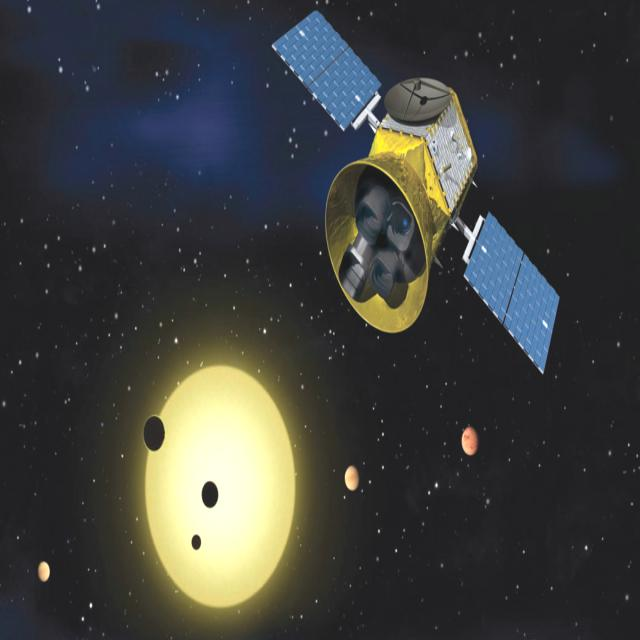large_debris: (138, 412, 166, 462), (336, 458, 365, 502), (457, 418, 481, 466), (202, 477, 220, 515), (34, 560, 49, 590)
medium_debris: (270, 9, 561, 386)
